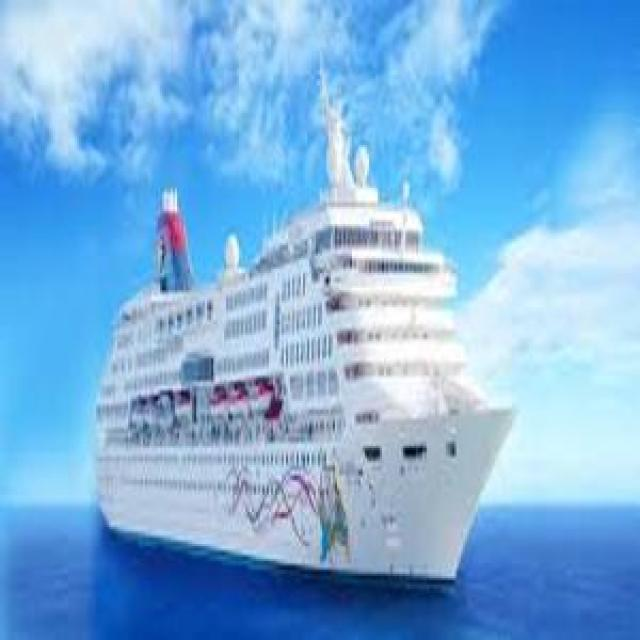passenger ship: (86, 166, 520, 586)
